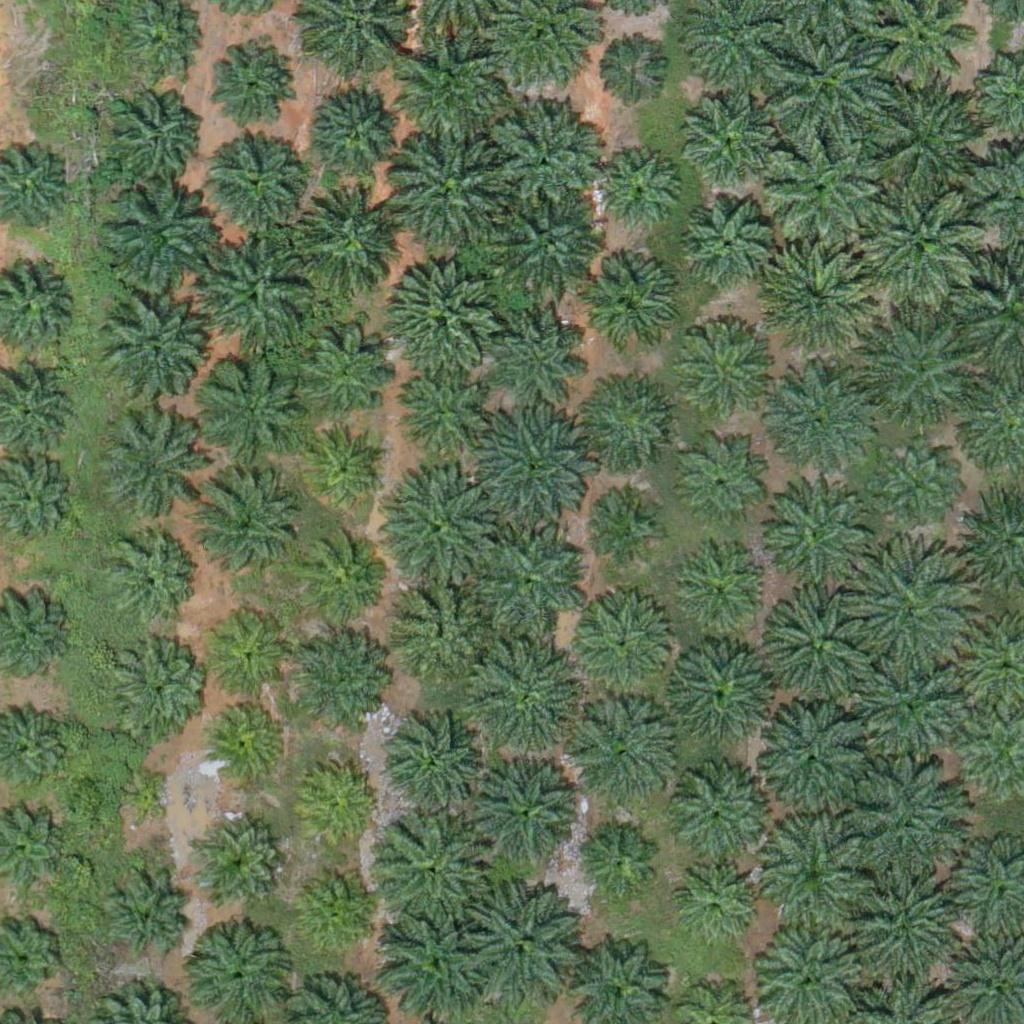Kelapa_Sawit: (842, 543, 967, 669), (864, 182, 989, 308), (376, 805, 501, 931), (375, 890, 500, 1016), (463, 872, 588, 998), (757, 811, 882, 937), (845, 750, 970, 876), (767, 16, 892, 141), (839, 866, 964, 991), (757, 244, 870, 358), (761, 589, 874, 703), (664, 637, 777, 751), (289, 185, 402, 299), (867, 315, 980, 428), (768, 129, 881, 242), (761, 478, 874, 591), (569, 592, 682, 705), (471, 641, 584, 754), (475, 407, 588, 520), (396, 35, 509, 148), (387, 136, 500, 249), (384, 256, 497, 369), (282, 316, 395, 429), (392, 474, 504, 588), (194, 350, 306, 464), (191, 466, 303, 580), (100, 182, 212, 296), (757, 705, 869, 819), (566, 698, 678, 812), (855, 652, 967, 765), (869, 82, 981, 195), (759, 367, 871, 480), (474, 525, 586, 638), (493, 187, 605, 300), (488, 100, 600, 213), (199, 241, 311, 354), (466, 756, 578, 869), (671, 760, 783, 873), (491, 294, 591, 395), (311, 78, 411, 179), (95, 414, 195, 515), (580, 256, 680, 356), (395, 577, 495, 677), (208, 132, 308, 232), (104, 634, 204, 734), (99, 301, 199, 401), (104, 85, 204, 185), (194, 923, 294, 1023), (294, 637, 382, 726), (301, 424, 389, 512), (677, 546, 765, 634), (681, 92, 769, 180), (591, 146, 679, 234), (390, 370, 478, 458), (293, 536, 381, 624), (202, 38, 290, 126), (104, 532, 192, 620), (204, 697, 292, 785), (684, 322, 771, 410), (683, 196, 770, 284), (585, 377, 672, 465), (206, 612, 293, 700), (391, 719, 478, 807), (592, 39, 667, 115), (303, 870, 378, 946), (687, 448, 762, 524), (200, 827, 275, 903), (301, 766, 376, 842), (586, 829, 661, 905), (881, 438, 956, 513), (118, 877, 193, 952), (683, 867, 758, 942), (594, 496, 657, 559), (115, 779, 165, 829)
